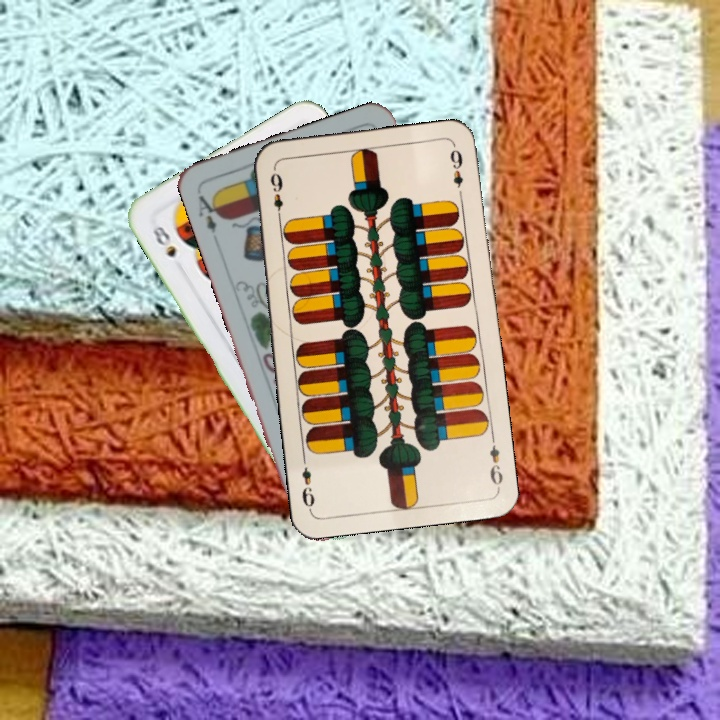E9: (486, 432, 506, 491), (266, 169, 285, 224)
EA: (194, 190, 224, 236)
S8: (148, 221, 179, 260)
